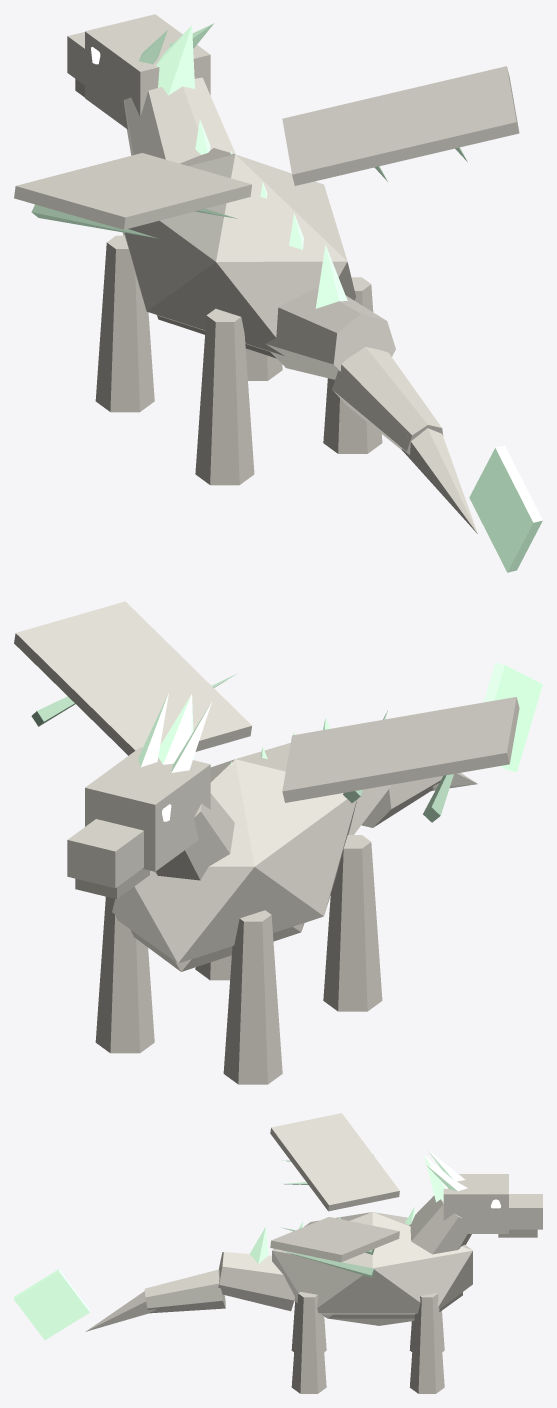
File: dragon_bone.glb
The picture shows the model from 3 angles, top to bottom: view 1: azimuth 30°, elevation 25°; view 2: azimuth 150°, elevation 25°; view 3: azimuth 270°, elevation 25°; orthographic projection. The views are drawn at different scales.
Parts seen in each view (by area): view 1: DragonBody, DragonWingR, DragonWingL, DragonLegBL, DragonLegFL, DragonTailA, DragonHead, DragonTailB, DragonNeck, DragonTailFin, DragonLegBR, DragonTailC (+5 smaller); view 2: DragonBody, DragonWingR, DragonWingL, DragonHead, DragonLegFL, DragonLegBL, DragonLegFR, DragonSnout, DragonNeck, DragonTailFin, DragonTailB, DragonCrest (+8 smaller); view 3: DragonBody, DragonWingL, DragonWingR, DragonHead, DragonTailA, DragonTailFin, DragonLegBR, DragonLegFR, DragonTailB, DragonNeck, DragonSnout, DragonBelly (+4 smaller).
Boxes of the visible parts, box(x1,y1,x2,y2) form: DragonBody: box(122, 148, 355, 355); DragonWingR: box(282, 66, 519, 185); DragonWingL: box(14, 153, 252, 229); DragonLegBL: box(195, 308, 254, 485); DragonLegFL: box(95, 235, 154, 412); DragonTailA: box(265, 288, 395, 379); DragonHead: box(85, 14, 210, 129); DragonTailB: box(332, 347, 443, 454); DragonNeck: box(123, 77, 235, 163); DragonTailFin: box(469, 445, 542, 572); DragonLegBR: box(323, 277, 382, 453); DragonTailC: box(402, 428, 477, 533); DragonBody: box(112, 743, 357, 963); DragonWingR: box(14, 601, 251, 755); DragonWingL: box(282, 697, 519, 802); DragonHead: box(85, 747, 210, 871); DragonLegFL: box(223, 910, 282, 1084); DragonLegBL: box(323, 835, 382, 1011); DragonLegFR: box(95, 896, 154, 1053); DragonSnout: box(67, 819, 143, 888); DragonNeck: box(155, 793, 234, 880); DragonTailFin: box(483, 662, 542, 772); DragonTailB: box(361, 776, 442, 827); DragonCrest: box(158, 694, 194, 764); DragonBody: box(272, 1212, 472, 1315); DragonWingL: box(270, 1113, 399, 1211); DragonWingR: box(270, 1217, 399, 1262); DragonHead: box(443, 1174, 508, 1233); DragonTailA: box(218, 1252, 294, 1311); DragonTailFin: box(14, 1269, 89, 1339); DragonLegBR: box(291, 1292, 326, 1393); DragonLegFR: box(409, 1293, 444, 1393); DragonTailB: box(144, 1269, 225, 1313); DragonNeck: box(409, 1195, 471, 1254); DragonSnout: box(509, 1194, 542, 1229); DragonBelly: box(323, 1292, 462, 1325).
Size of the model in its own units: 3.1 by 2.17 by 4.84.
